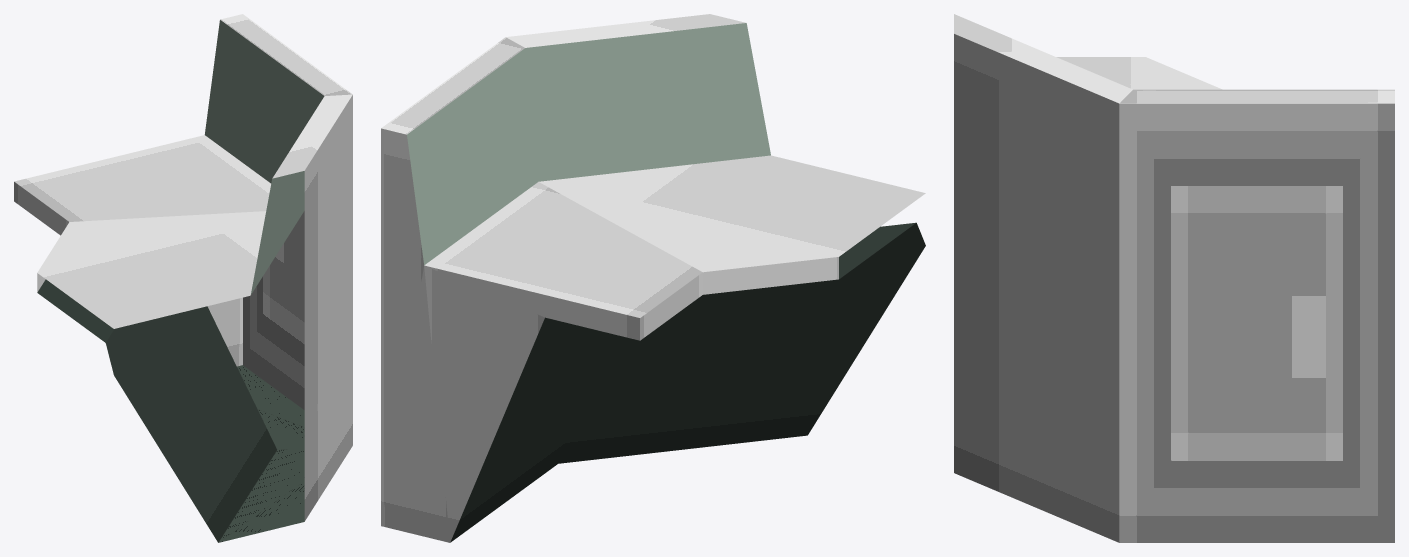
File: run_desk_inside_bend_b_0.obj
The picture shows the model from 3 angles, left to right: view 1: azimuth 30°, elevation 25°; view 2: azimuth 150°, elevation 25°; view 3: azimuth 270°, elevation 25°; orthographic projection. The views are drawn at different scales.
Size of the model in its own units: 1 by 1.1 by 1.
